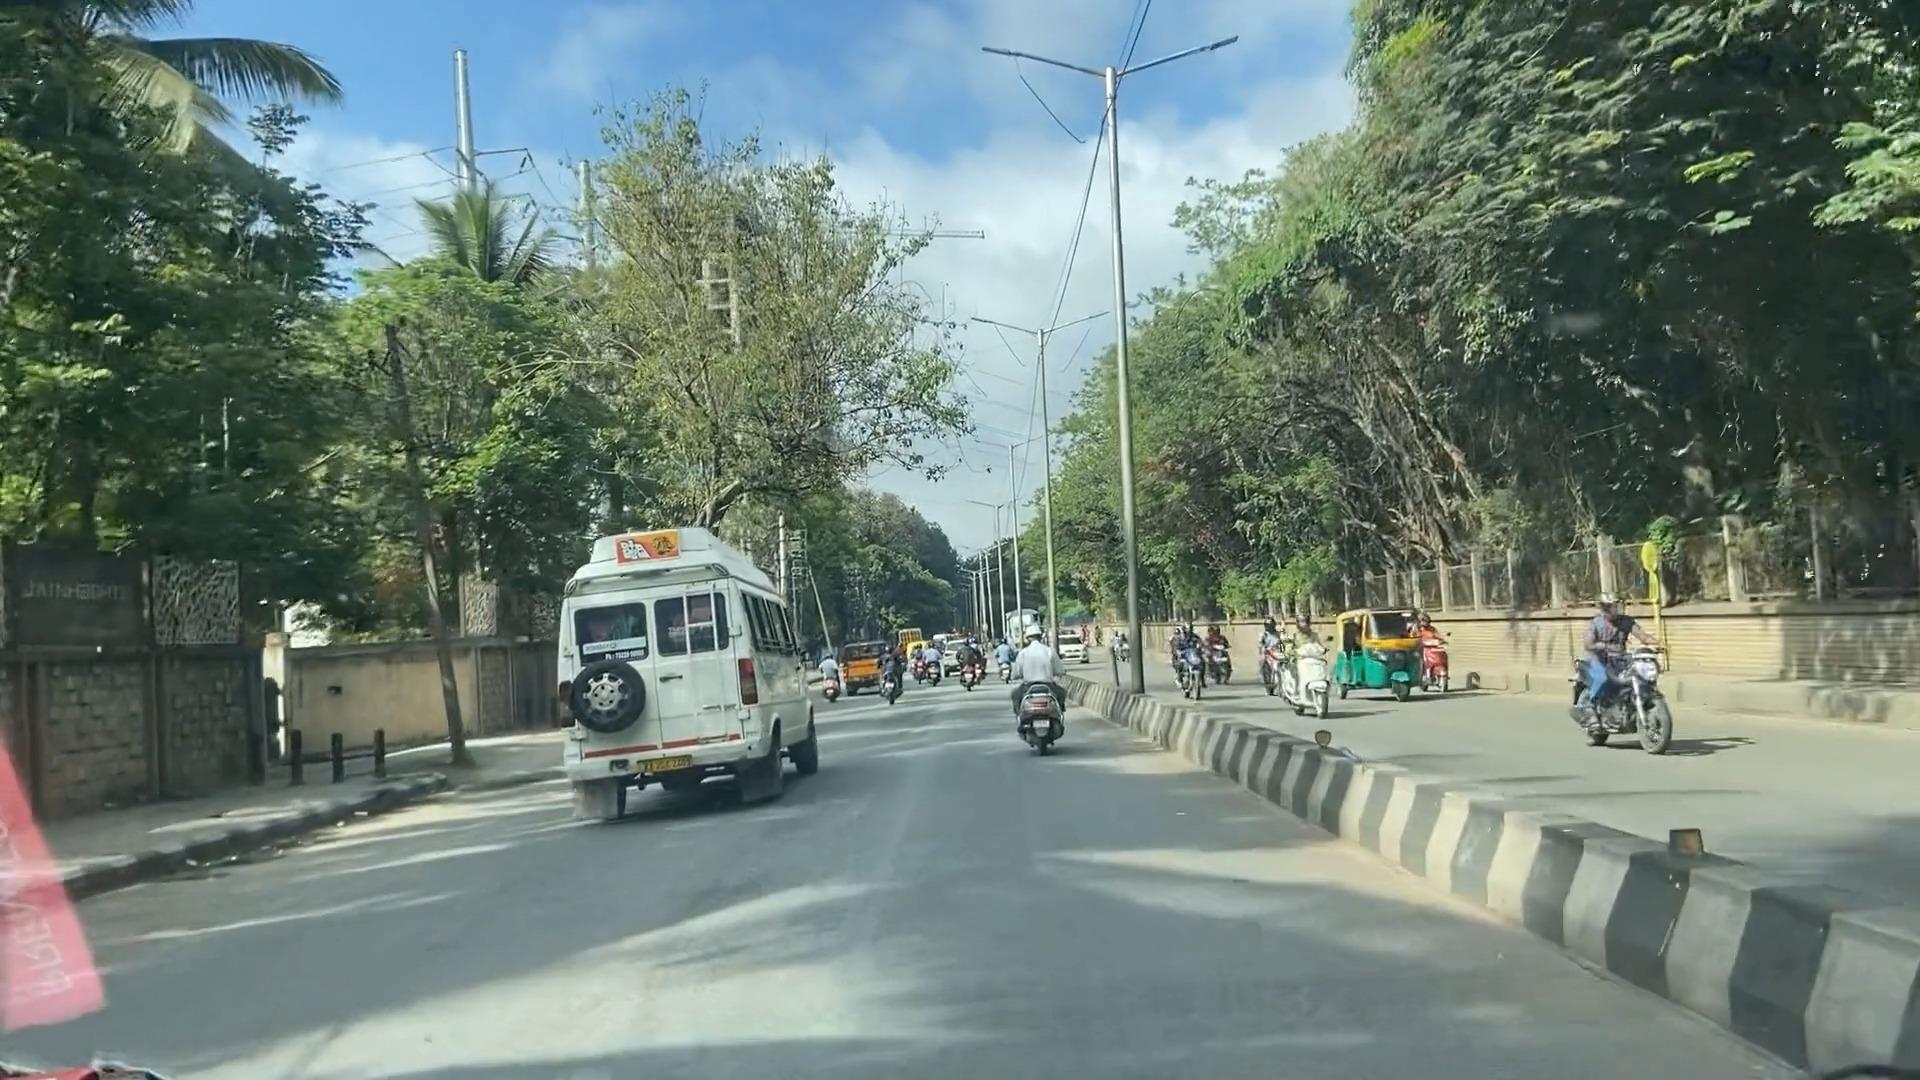HMV: (538, 534, 814, 811)
LMV: (1001, 630, 1083, 758)
